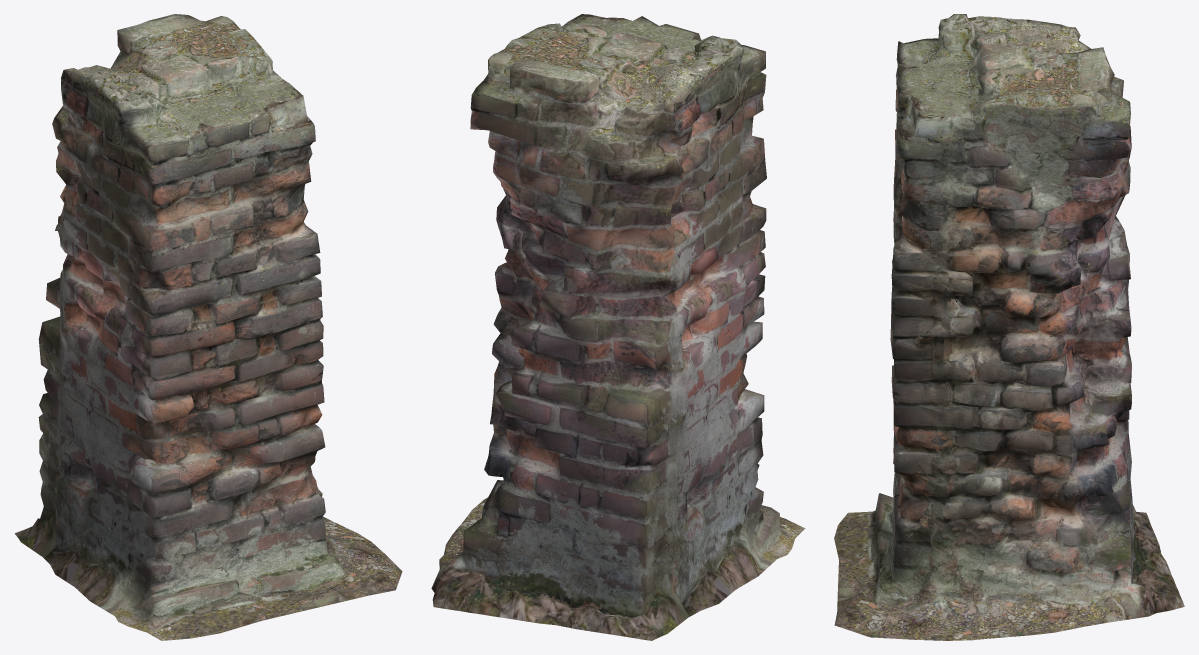
The model's file is SM_Fence_02_03.fbx.
3 views of the same model, side by side, from view 1: azimuth 30°, elevation 25°; view 2: azimuth 150°, elevation 25°; view 3: azimuth 270°, elevation 25° (orthographic). The views are drawn at different scales.
Parts seen in each view (by area): view 1: sm_Fence_02_03_LOD0; view 2: sm_Fence_02_03_LOD0; view 3: sm_Fence_02_03_LOD0.
Boxes of the visible parts, x1,y1,x2,y2 form: sm_Fence_02_03_LOD0: [15, 14, 402, 640]; sm_Fence_02_03_LOD0: [431, 14, 805, 640]; sm_Fence_02_03_LOD0: [834, 14, 1184, 640].
Bounding box in the file's own units: 130 × 118 × 207.
